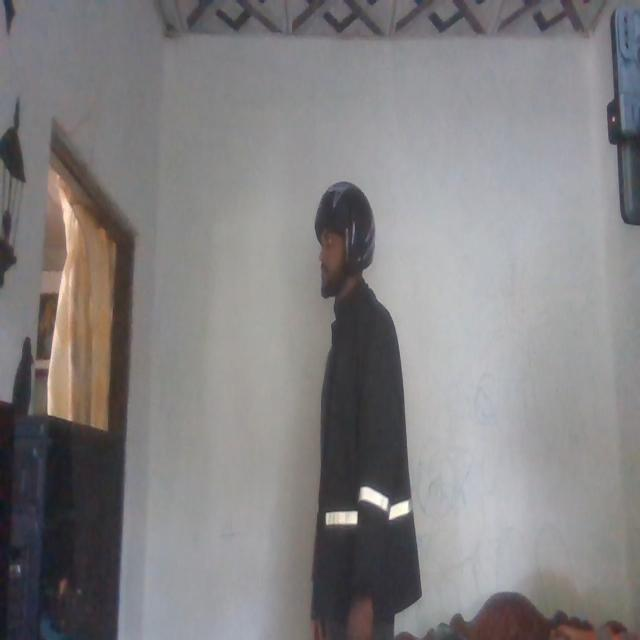Helmet_Wearer: (309, 178, 383, 309)
Jacket_Wearer: (305, 278, 421, 608)
Person: (295, 178, 419, 640)
